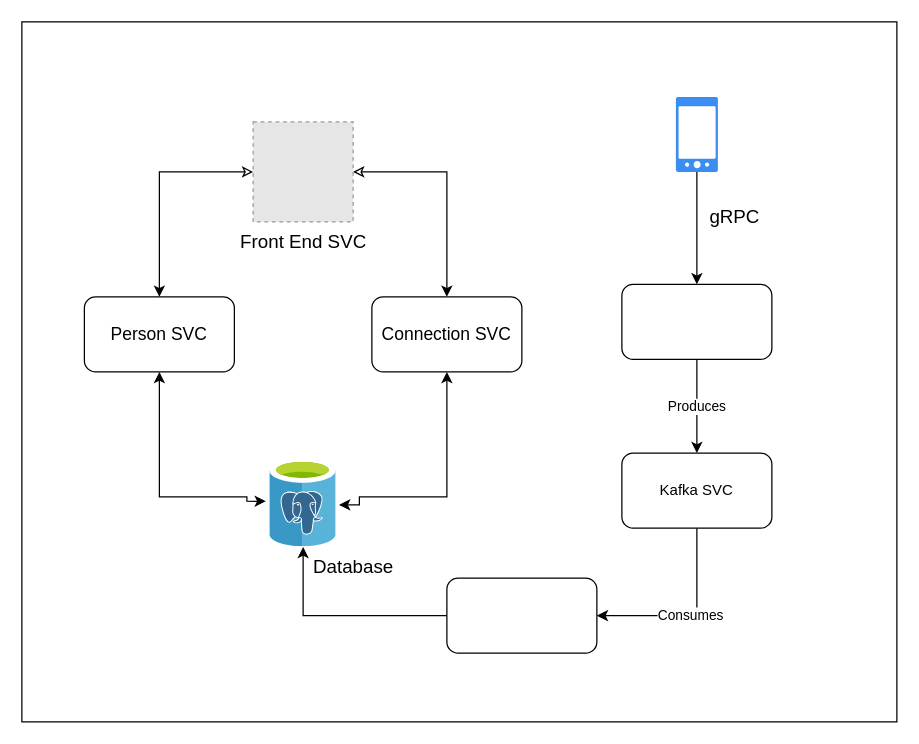
The diagram is 919 pixels wide and 744 high, and some of its shapes have lost their labels. Grey dashed boxes stand in for pictures. The shapes that lost their labels are listed below. From the top down, each one's centre as x and y in pixels, then its label:
At (696,321): "Location Ingest SVC".
At (521,615): "Location SVC".
